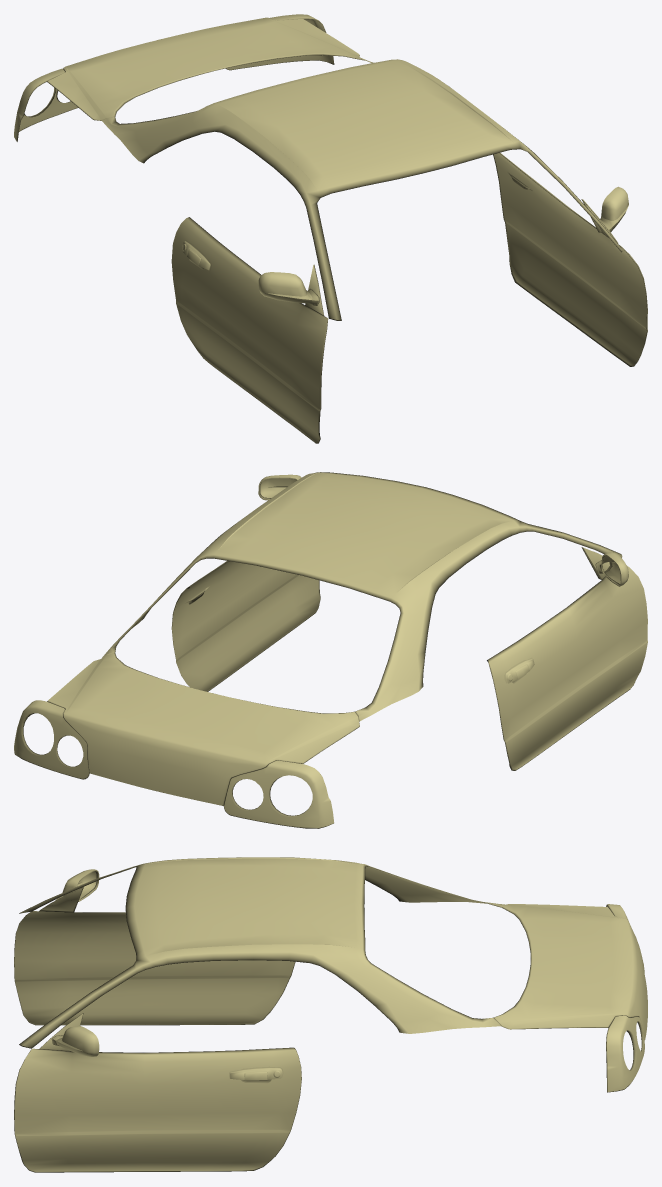
The model's file is R34_Base_Chassis_Duco.fbx.
The picture shows the model from 3 angles, top to bottom: view 1: azimuth 30°, elevation 25°; view 2: azimuth 150°, elevation 25°; view 3: azimuth 270°, elevation 25°; orthographic projection. The views are drawn at different scales.
Parts seen in each view (by area): view 1: R34_Base_Chassis_Duco; view 2: R34_Base_Chassis_Duco; view 3: R34_Base_Chassis_Duco.
Part boxes in pixels (left/top/right/bottom): R34_Base_Chassis_Duco: left=14, top=14, right=647, bottom=443; R34_Base_Chassis_Duco: left=14, top=472, right=647, bottom=828; R34_Base_Chassis_Duco: left=14, top=857, right=647, bottom=1172.
Bounding box in the file's own units: 191 × 104 × 297.
